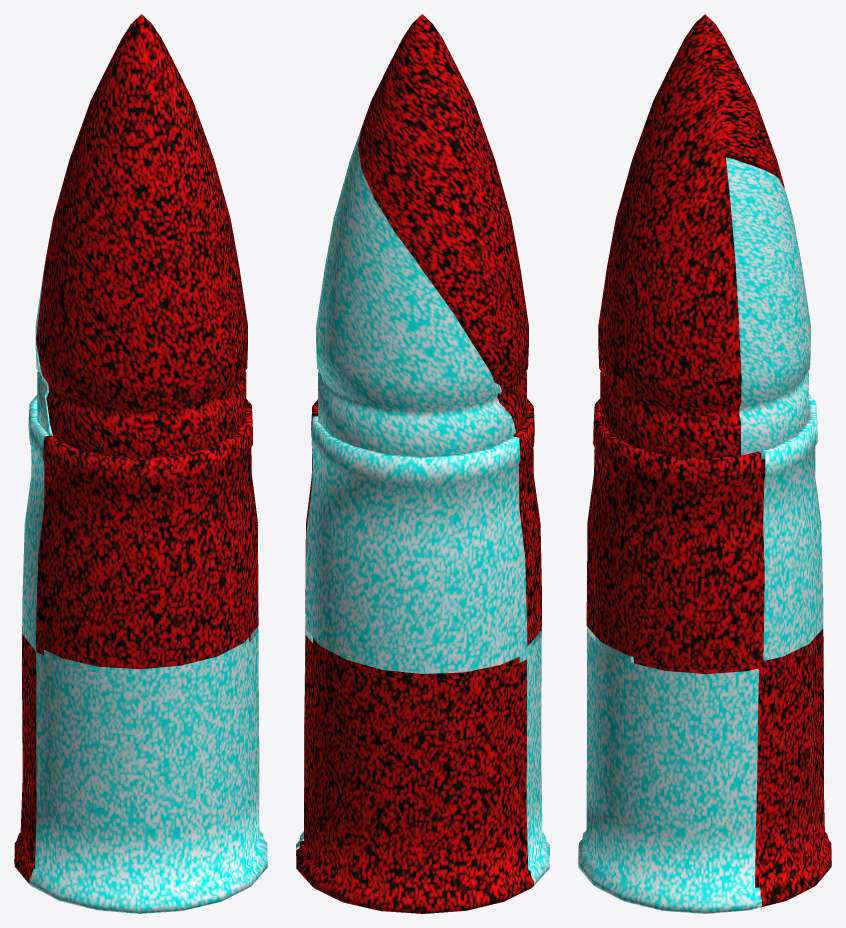
The model's file is SM_Cannon_TAN_KMH.fbx.
3 renders of one model, left to right at view 1: azimuth 30°, elevation 25°; view 2: azimuth 150°, elevation 25°; view 3: azimuth 270°, elevation 25°, orthographic.
Visible parts, largest first — view 1: SM_Cannon_TAN_KMH; view 2: SM_Cannon_TAN_KMH; view 3: SM_Cannon_TAN_KMH.
Part boxes in pixels (x1,y1,x2,y2): SM_Cannon_TAN_KMH: (14, 14, 267, 913); SM_Cannon_TAN_KMH: (296, 14, 549, 913); SM_Cannon_TAN_KMH: (578, 14, 831, 913).
Size of the model in its own units: 3.61 by 13.15 by 3.56.
